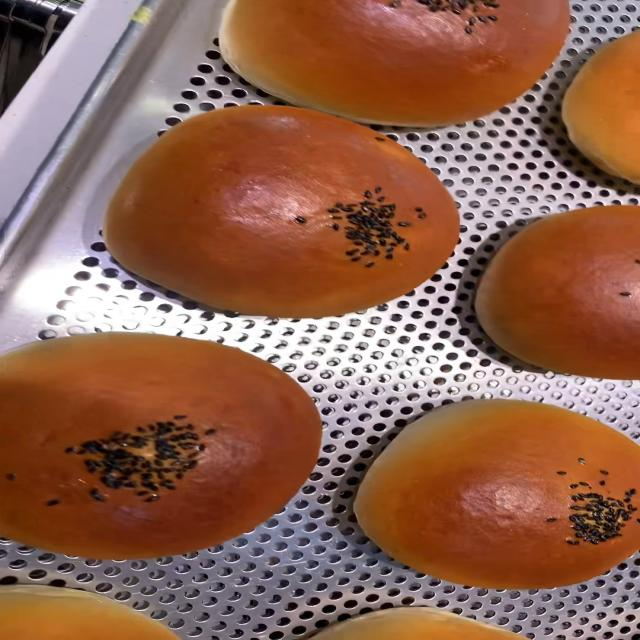bread: (101, 97, 474, 320), (0, 327, 329, 567), (355, 396, 640, 583), (220, 2, 572, 131)
